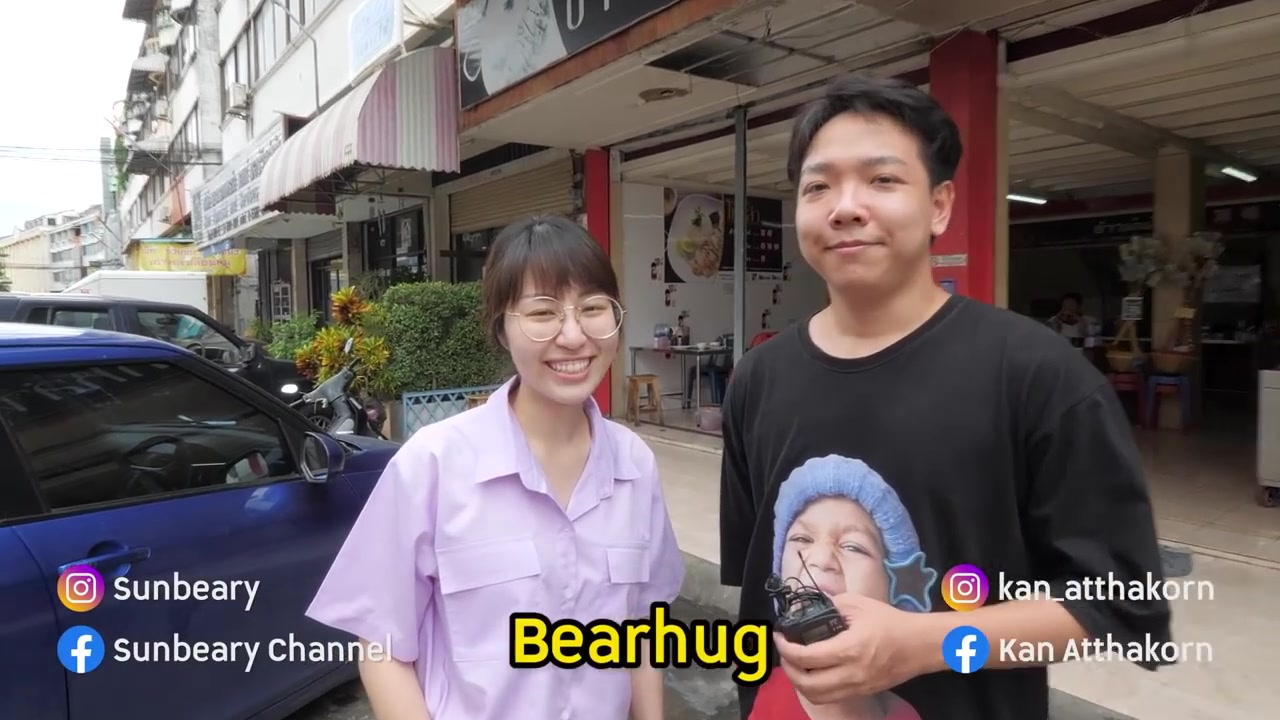text-label: (508, 601, 769, 684)
